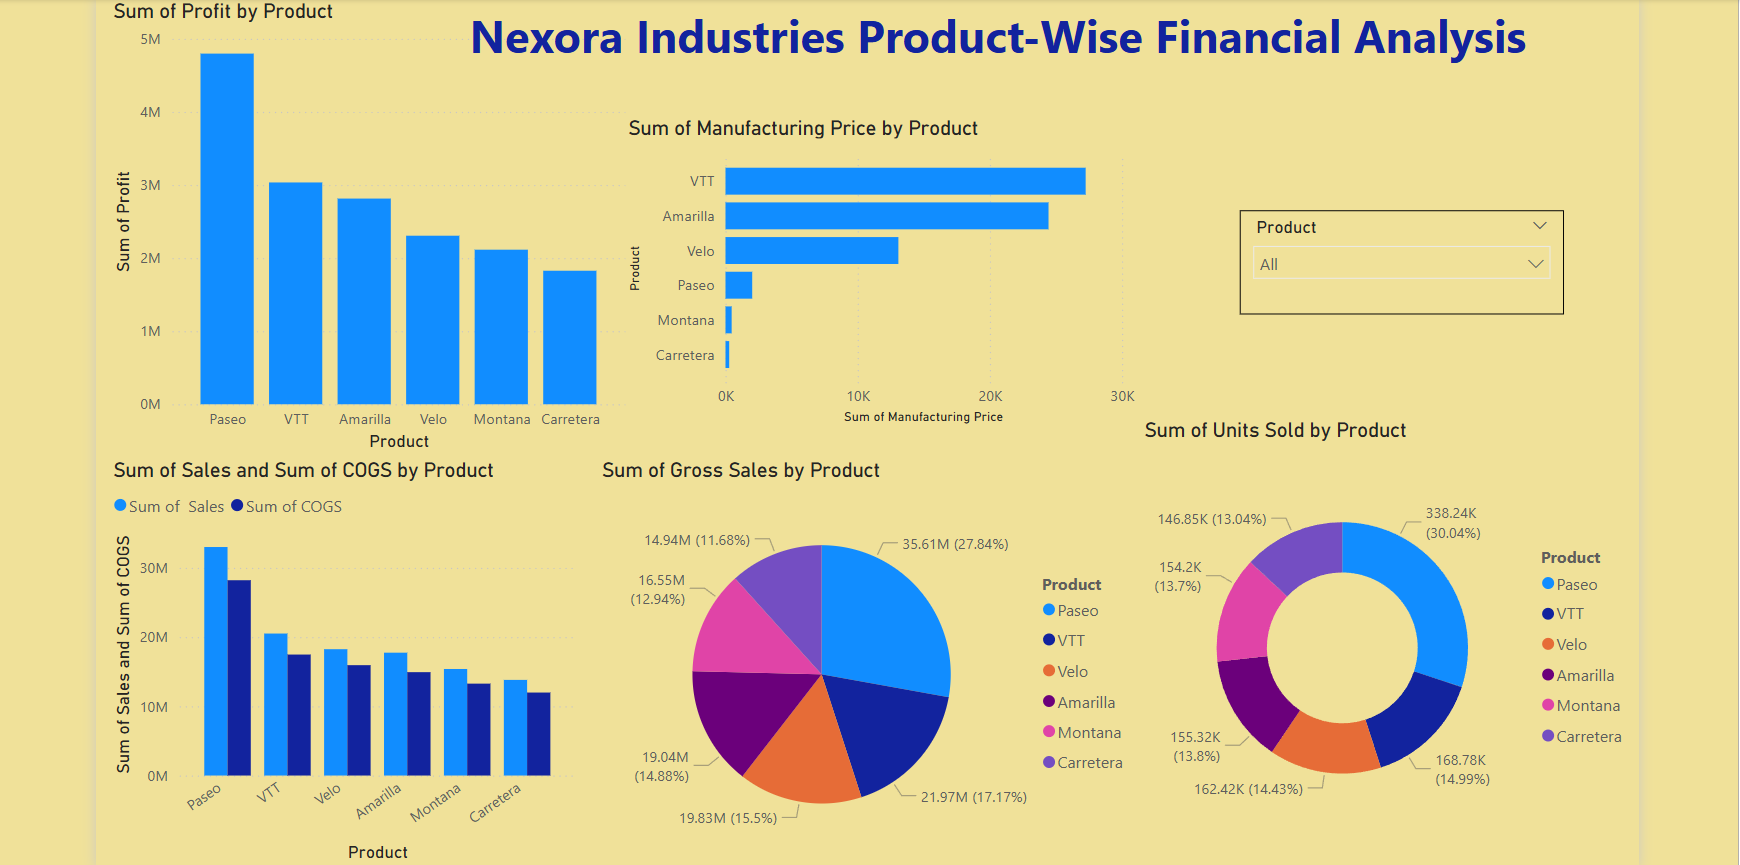

The page's visual inventory and layout, read from the dashboard file:
{"tool":"powerbi","page":{"name":"Page 1","canvas":[1280,720],"ordinal":0},"visuals":[{"type":"clusteredColumnChart","fields":{"Category":["financials.Product"],"Y":["Sum(financials.Profit)"]},"box":[9.6,0,435,380.1],"z":0},{"type":"clusteredColumnChart","fields":{"Y":["Sum(financials. Sales)","Sum(financials.COGS)"],"Category":["financials.Product"]},"box":[9.6,380.1,393.8,340.3],"z":1000},{"type":"pieChart","fields":{"Category":["financials.Product"],"Y":["Sum(financials.Gross Sales)"]},"box":[414.4,380.1,451.5,340.3],"z":2000},{"type":"donutChart","fields":{"Category":["financials.Product"],"Y":["Sum(financials.Units Sold)"]},"box":[864.3,347.3,415.4,362.9],"z":3000},{"type":"textbox","box":[304.7,0,953.5,96.5],"z":4000},{"type":"slicer","fields":{"Values":["financials.Product"]},"box":[947.7,175.6,268.6,86],"z":5000},{"type":"clusteredBarChart","fields":{"Category":["financials.Product"],"Y":["Sum(financials.Manufacturing Price)"]},"box":[436.4,96.1,429.5,260.7],"z":6000}]}

Visuals, with their boxes on the page's 1280x720 design canvas (x1, y1, x2, y2). These are canvas units, not pixel positions in the 1740x865 screenshot, which may show the page scaled, cropped or inside an application window:
clusteredColumnChart - financials.Product x Sum(financials.Profit): <region>10, 0, 445, 380</region>
clusteredColumnChart - Sum(financials. Sales) x Sum(financials.COGS): <region>10, 380, 403, 720</region>
pieChart - financials.Product x Sum(financials.Gross Sales): <region>414, 380, 866, 720</region>
donutChart - financials.Product x Sum(financials.Units Sold): <region>864, 347, 1280, 710</region>
textbox: <region>305, 0, 1258, 96</region>
slicer - financials.Product: <region>948, 176, 1216, 262</region>
clusteredBarChart - financials.Product x Sum(financials.Manufacturing Price): <region>436, 96, 866, 357</region>
